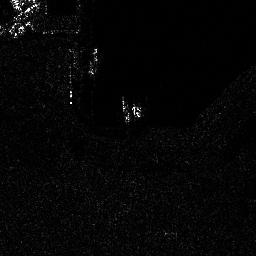ship: (87, 47, 97, 76)
